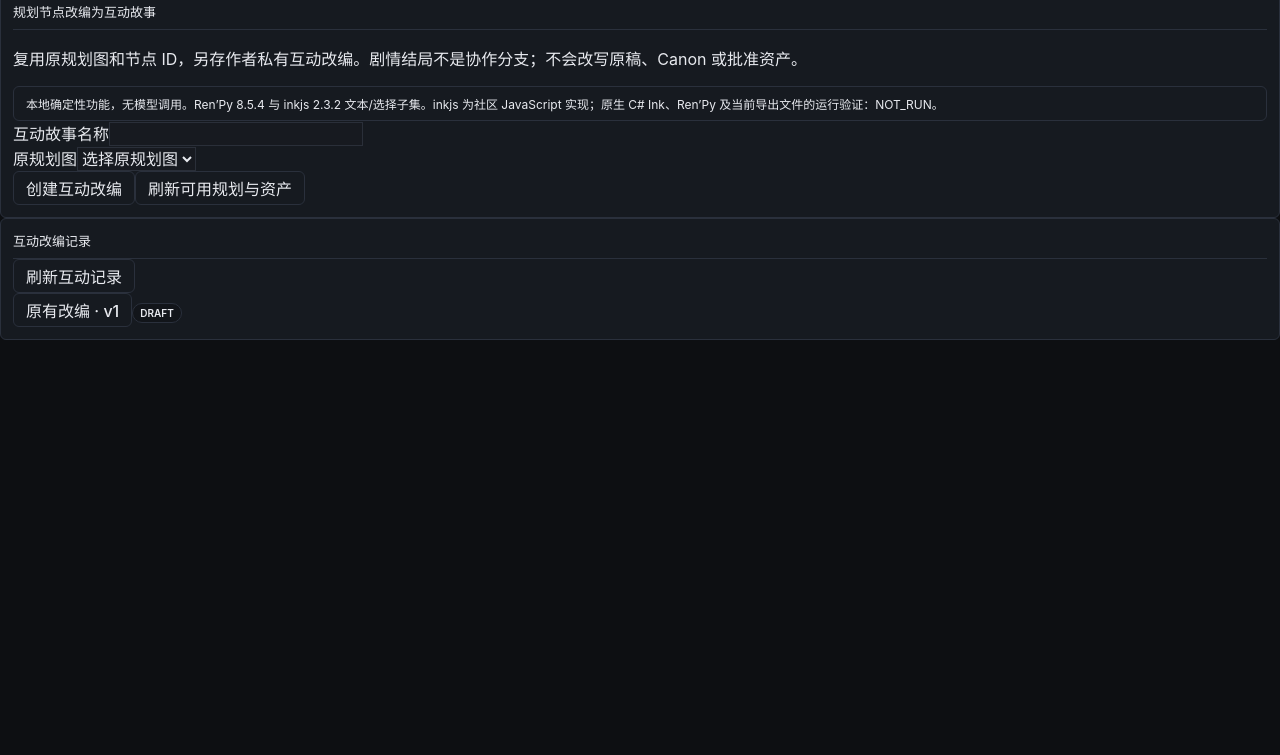
Scenario: invalidates retained removal confirmation in the same batch as save
The width and height of the screenshot is (1280, 755).
Click the button "原有改编 · v1".
click(73, 310)  # box [13,293,132,327]
(page scrolled)
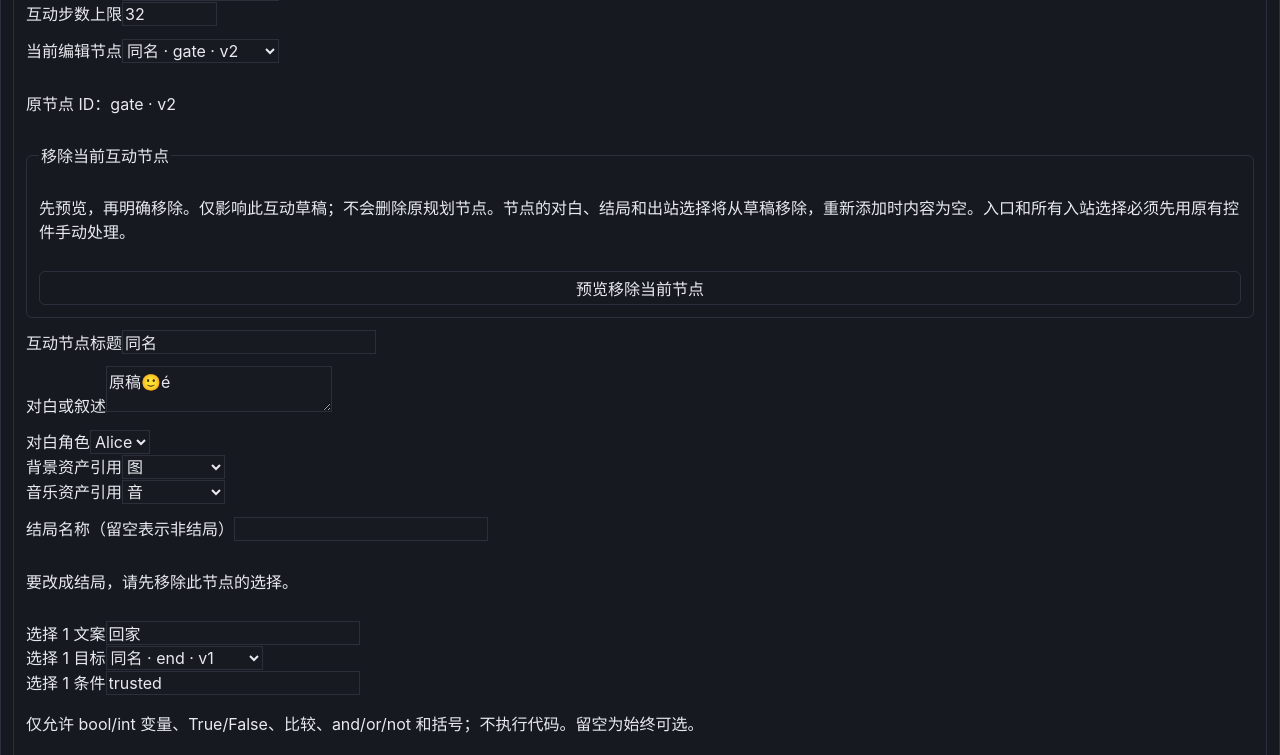
Replace the text in the text box labelled "对白或叙述" with "未保存🙂" at (219, 389), box [106,366,332,412]
(page scrolled)
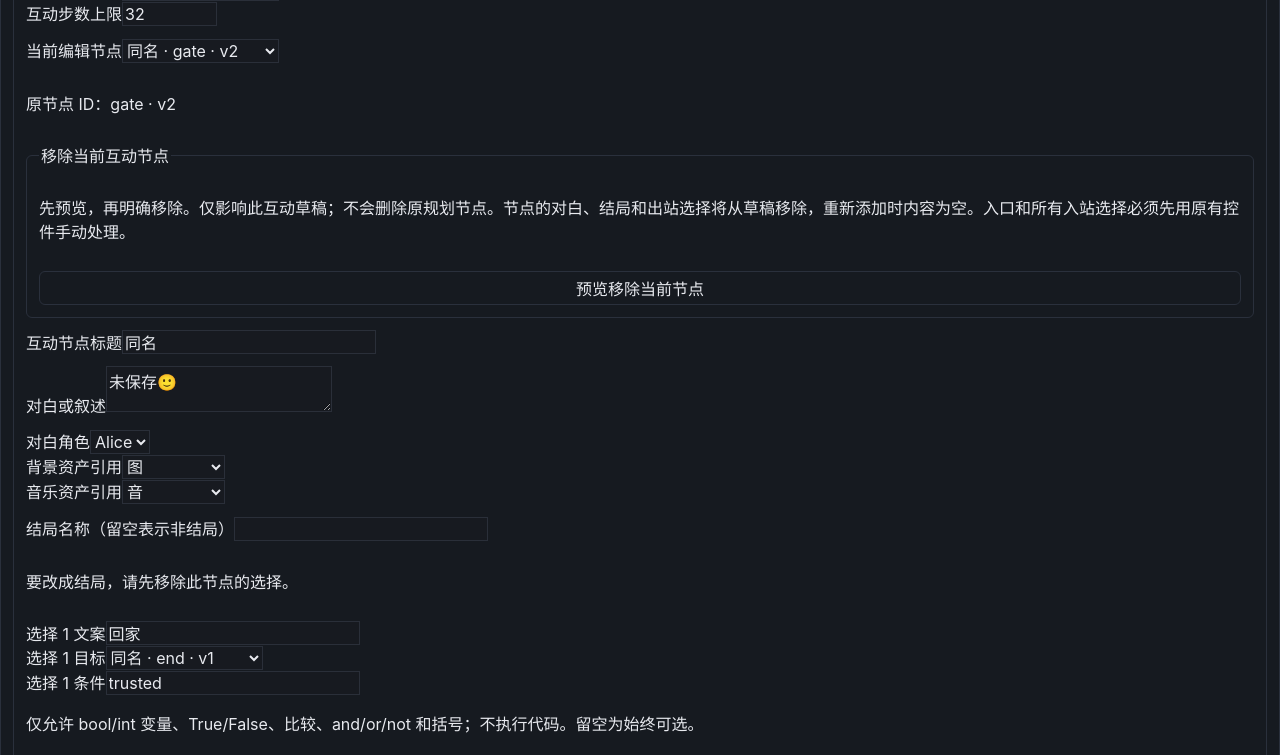
Select "同名 · unused · v4" in the dropdown labelled "当前编辑节点" at (200, 51), box [122,39,279,63]
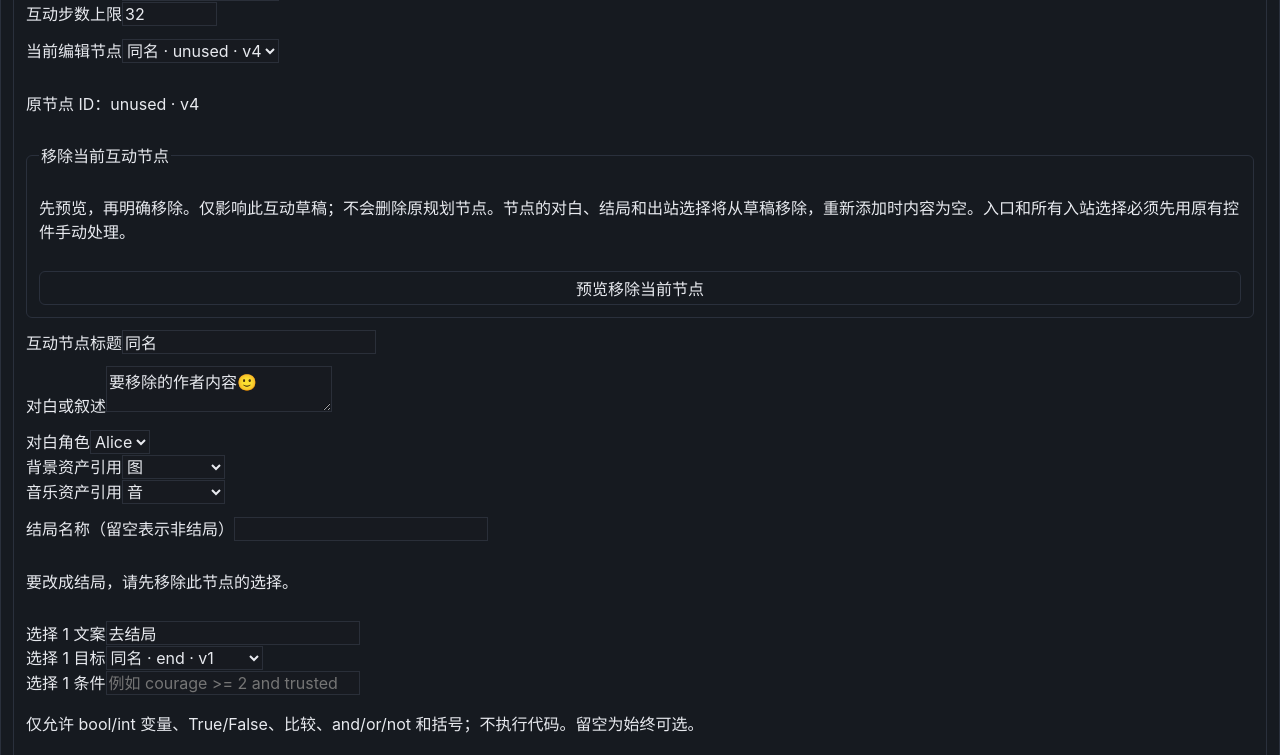
Click the button "预览移除当前节点".
click(640, 288)  # box [39,271,1241,305]
(page scrolled)
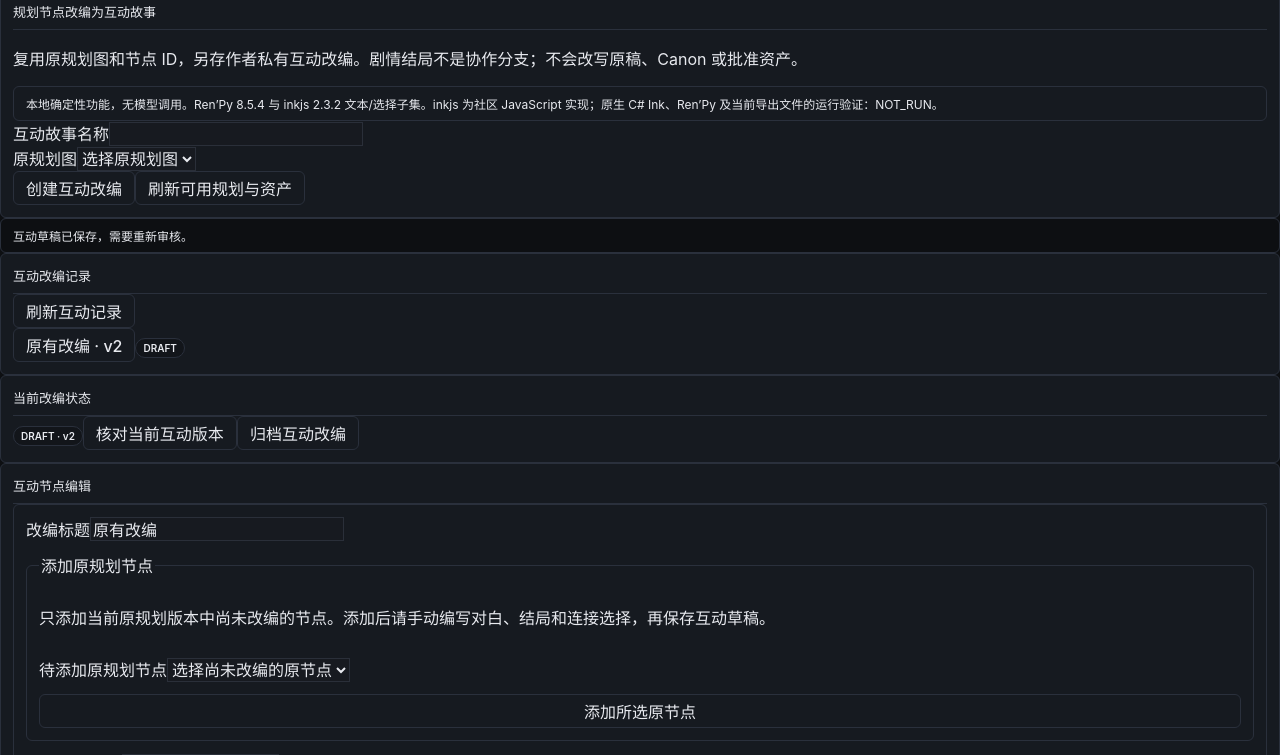
Result: the text "互动草稿已保存，需要重新审核。" is shown at [0,218,1279,253]
